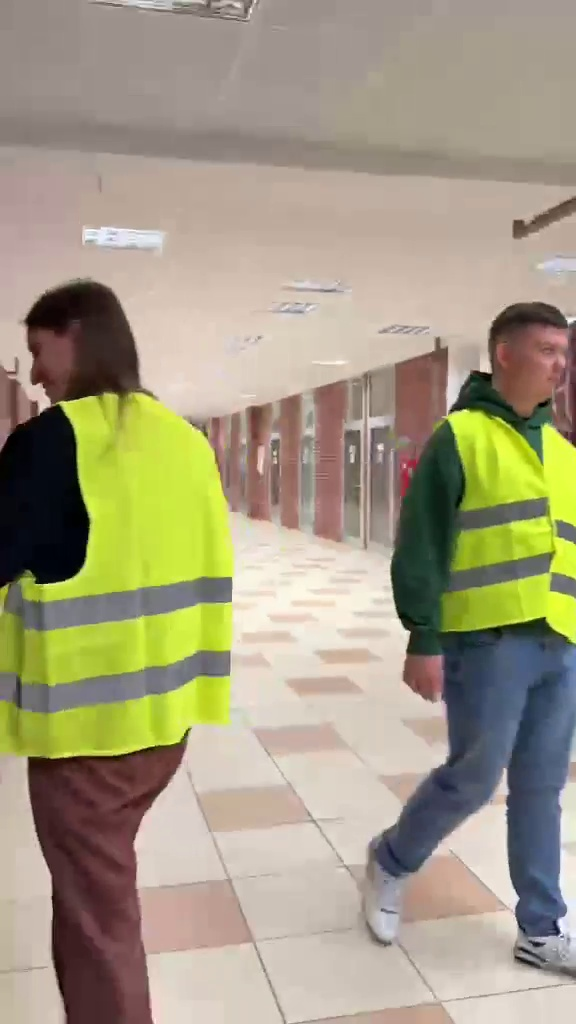vest: (2, 278, 234, 989), (368, 287, 576, 980)
